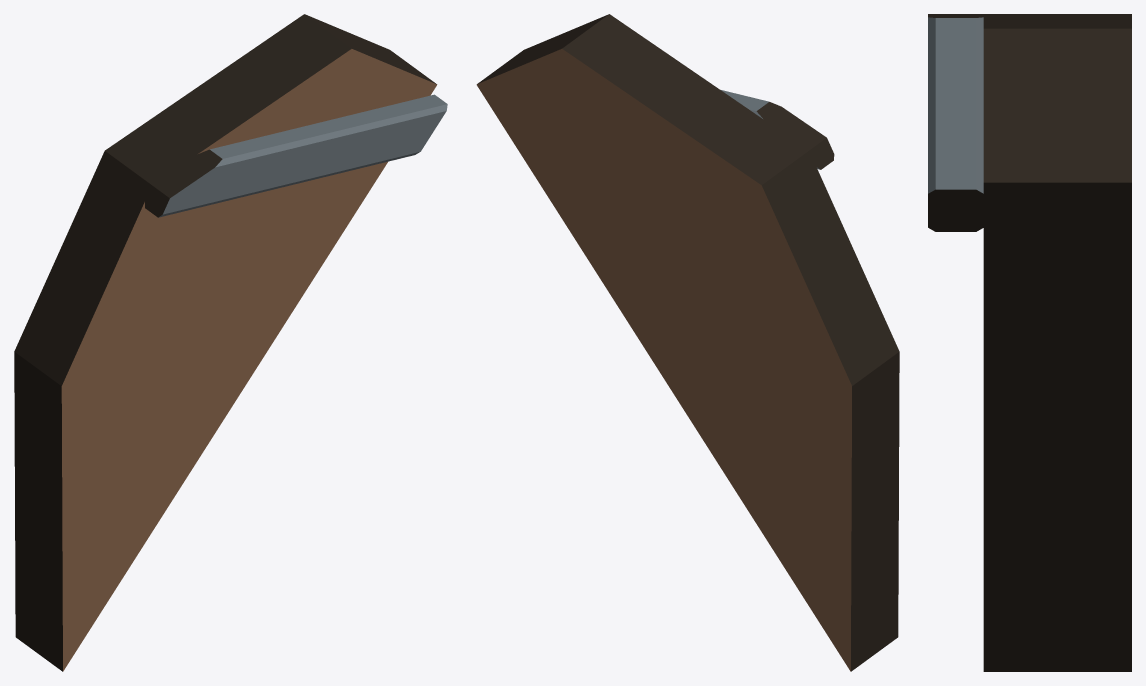
Rendered from SM_DoorShard_03_60.fbx.
3 renders of one model, left to right at view 1: azimuth 30°, elevation 25°; view 2: azimuth 150°, elevation 25°; view 3: azimuth 270°, elevation 25°, orthographic. The views are drawn at different scales.
Parts seen in each view (by area): view 1: SM_DoorShard_03_60; view 2: SM_DoorShard_03_60; view 3: SM_DoorShard_03_60.
Part boxes in pixels (left/top/right/bottom): SM_DoorShard_03_60: left=14, top=14, right=447, bottom=671; SM_DoorShard_03_60: left=476, top=14, right=899, bottom=671; SM_DoorShard_03_60: left=928, top=14, right=1131, bottom=671.
Bounding box in the file's own units: 73.16 × 22 × 103.
